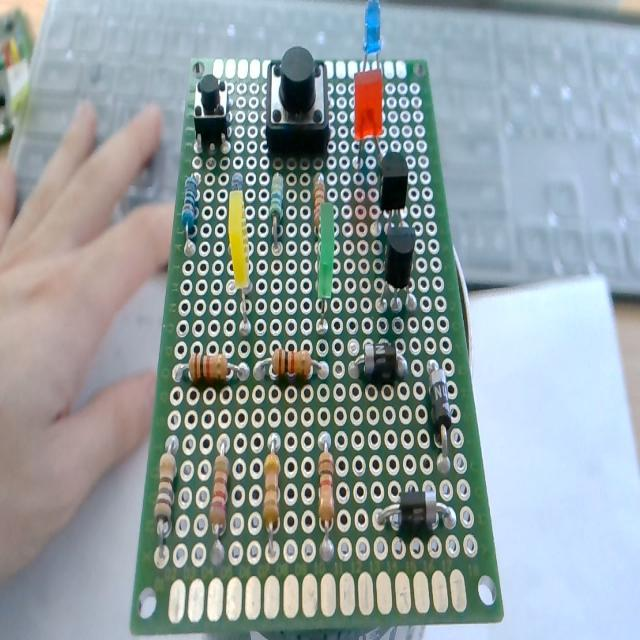diode: (378, 486, 462, 542), (422, 354, 458, 468), (346, 334, 408, 385)
led: (349, 71, 385, 163), (358, 0, 386, 75)
resistor: (152, 434, 184, 572), (258, 428, 288, 562), (204, 432, 236, 556), (312, 430, 338, 571), (256, 345, 330, 392), (171, 347, 247, 385), (266, 165, 288, 255), (180, 169, 202, 255), (312, 169, 328, 238)
switch: (261, 52, 335, 166), (190, 74, 234, 154)
transistor: (368, 222, 423, 310), (374, 140, 412, 232)
